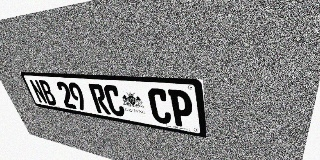2: (55, 81, 77, 109)
9: (67, 82, 89, 111)
B: (38, 80, 58, 106)
C: (147, 88, 172, 125), (102, 84, 126, 117)
N: (29, 79, 48, 104)
P: (168, 89, 194, 129)
R: (88, 83, 111, 115)
